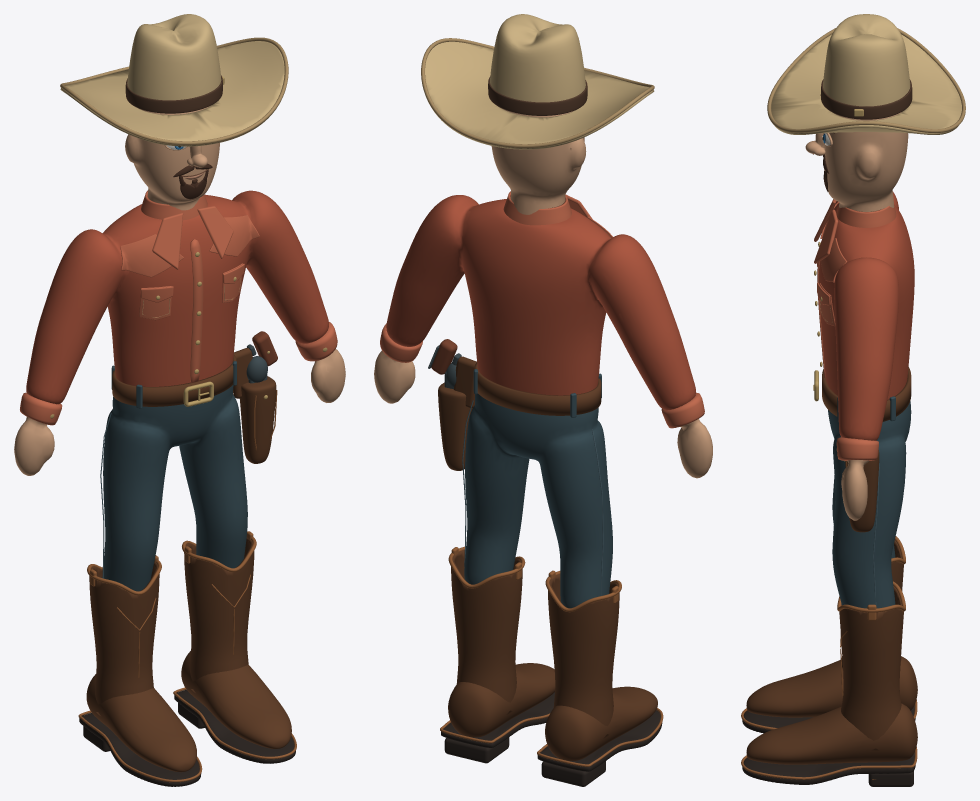
Rendered from cowboy_static_v02.glb.
3 renders of one model, left to right at view 1: azimuth 30°, elevation 25°; view 2: azimuth 150°, elevation 25°; view 3: azimuth 270°, elevation 25°, orthographic. The views are drawn at different scales.
Parts seen in each view (by area): view 1: cowboy_shirt_faded burnt sienna, cowboy_boots_saddle brown, cowboy_trousers_blue charcoal denim, cowboy_hat_sand felt, cowboy_shirt_yoke and collar, cowboy_gear_saddle brown, cowboy_boots_dark leather, cowboy_head_warm sandstone, cowboy_body_warm sandstone, cowboy_boots_edge and welt, cowboy_hat_bound brim, cowboy_hat_walnut (+1 smaller); view 2: cowboy_shirt_faded burnt sienna, cowboy_boots_saddle brown, cowboy_trousers_blue charcoal denim, cowboy_hat_sand felt, cowboy_gear_saddle brown, cowboy_boots_dark leather, cowboy_head_warm sandstone, cowboy_body_warm sandstone, cowboy_shirt_yoke and collar, cowboy_boots_edge and welt, cowboy_hat_bound brim, cowboy_hat_walnut; view 3: cowboy_boots_saddle brown, cowboy_shirt_faded burnt sienna, cowboy_hat_sand felt, cowboy_trousers_blue charcoal denim, cowboy_head_warm sandstone, cowboy_shirt_yoke and collar, cowboy_boots_dark leather, cowboy_gear_saddle brown, cowboy_hat_bound brim, cowboy_boots_edge and welt, cowboy_body_warm sandstone, cowboy_hat_walnut.
Part boxes in pixels (x1,y1,x2,y2): cowboy_shirt_faded burnt sienna: (26,190,328,404); cowboy_boots_saddle brown: (86,537,291,772); cowboy_trousers_blue charcoal denim: (102,361,247,591); cowboy_hat_sand felt: (60,14,284,146); cowboy_shirt_yoke and collar: (20,190,337,425); cowboy_gear_saddle brown: (112,348,276,463); cowboy_boots_dark leather: (79,689,295,786); cowboy_head_warm sandstone: (125,106,219,210); cowboy_body_warm sandstone: (14,349,345,475); cowboy_boots_edge and welt: (78,531,296,782); cowboy_hat_bound brim: (60,37,288,145); cowboy_hat_walnut: (125,75,222,113); cowboy_shirt_faded burnt sienna: (386,195,695,410); cowboy_boots_saddle brown: (448,550,657,760); cowboy_trousers_blue charcoal denim: (464,369,612,608); cowboy_hat_sand felt: (425,14,654,149); cowboy_gear_saddle brown: (438,356,601,470); cowboy_boots_dark leather: (441,692,662,786); cowboy_head_warm sandstone: (491,106,586,214); cowboy_body_warm sandstone: (374,350,712,478); cowboy_shirt_yoke and collar: (380,191,704,428); cowboy_boots_edge and welt: (440,546,663,766); cowboy_hat_bound brim: (421,38,654,148); cowboy_hat_walnut: (488,76,587,115); cowboy_boots_saddle brown: (746,540,917,764); cowboy_shirt_faded burnt sienna: (818,191,914,440); cowboy_hat_sand felt: (771,14,961,134); cowboy_trousers_blue charcoal denim: (828,396,911,608); cowboy_head_warm sandstone: (825,112,908,211); cowboy_shirt_yoke and collar: (814,199,896,460); cowboy_boots_dark leather: (742,705,915,786); cowboy_gear_saddle brown: (822,367,911,532); cowboy_hat_bound brim: (767,28,965,133); cowboy_boots_edge and welt: (741,536,917,780); cowboy_body_warm sandstone: (841,460,868,520); cowboy_hat_walnut: (820,79,912,119).
Bounding box in the file's own units: 0.8927 × 1.85 × 0.519.
